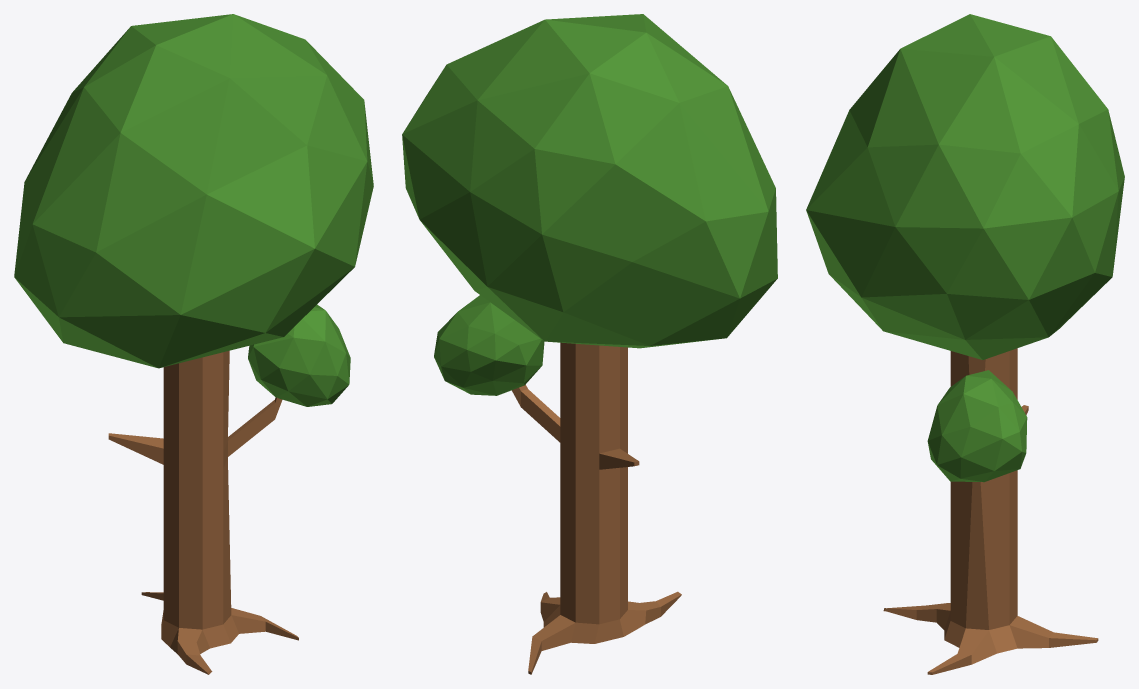
Rendered from Tree2.fbx.
The picture shows the model from 3 angles, left to right: view 1: azimuth 30°, elevation 25°; view 2: azimuth 150°, elevation 25°; view 3: azimuth 270°, elevation 25°; orthographic projection.
Parts seen in each view (by area): view 1: Icosphere, Cylinder, Icosphere.001; view 2: Icosphere, Cylinder, Icosphere.001; view 3: Icosphere, Cylinder, Icosphere.001.
Boxes of the visible parts, x1=… form: Icosphere: x1=14, y1=14, x2=373, y2=368; Cylinder: x1=108, y1=350, x2=298, y2=674; Icosphere.001: x1=248, y1=304, x2=350, y2=406; Icosphere: x1=402, y1=14, x2=777, y2=348; Cylinder: x1=512, y1=342, x2=681, y2=674; Icosphere.001: x1=434, y1=295, x2=544, y2=395; Icosphere: x1=806, y1=14, x2=1124, y2=359; Cylinder: x1=883, y1=348, x2=1098, y2=674; Icosphere.001: x1=927, y1=370, x2=1027, y2=482.
Size of the model in its own units: 496 by 856 by 410.
